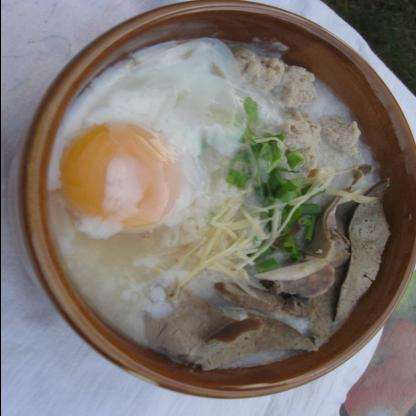Joke: (33, 30, 402, 386)
